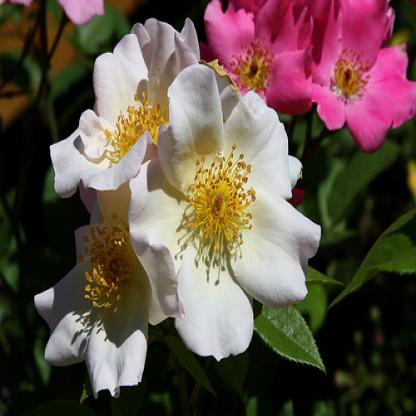ROSE-MAWAR: (33, 3, 415, 395)
